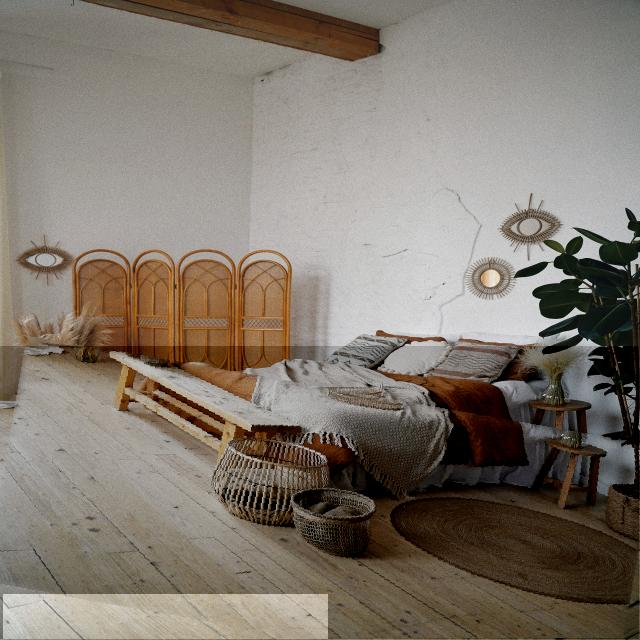floor: (0, 346, 639, 639), (3, 594, 328, 640)
